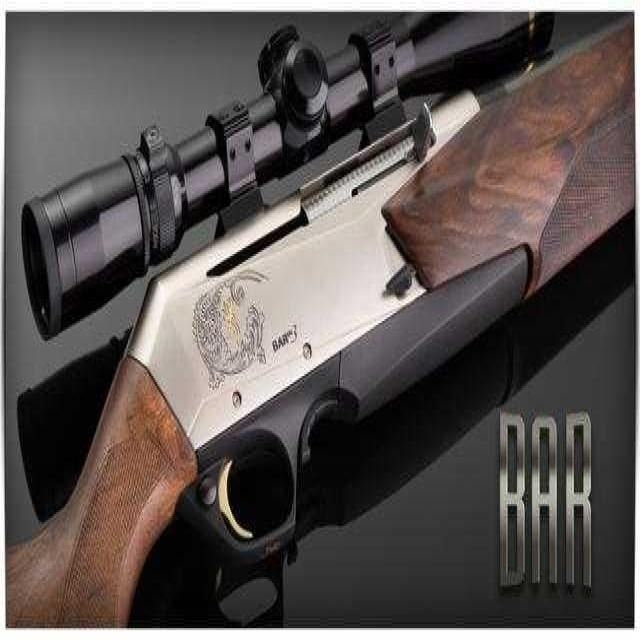weapon: (5, 18, 635, 634)
